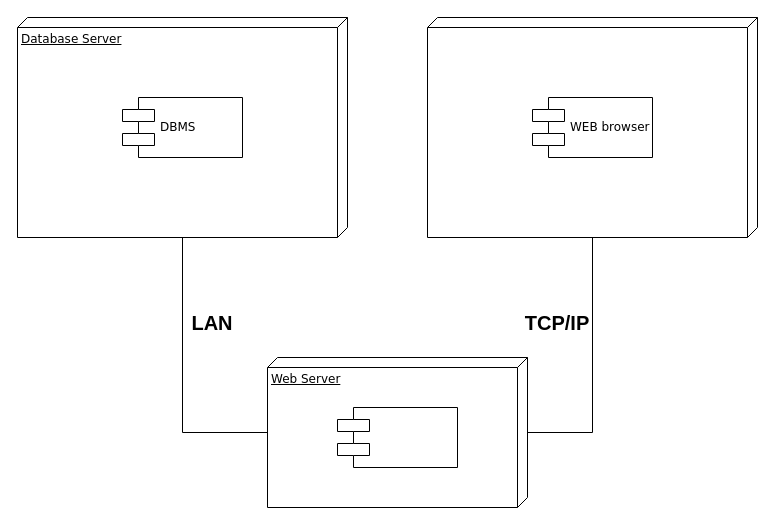
This 775x525 diagram has some shape labels left out. The shapes that lost their labels are listed below. From the top down, each one's box as (x1, y1, x2, y2) in pixels, then its label:
(426, 16, 758, 238): Client Machine
(336, 406, 458, 468): package.php Server
